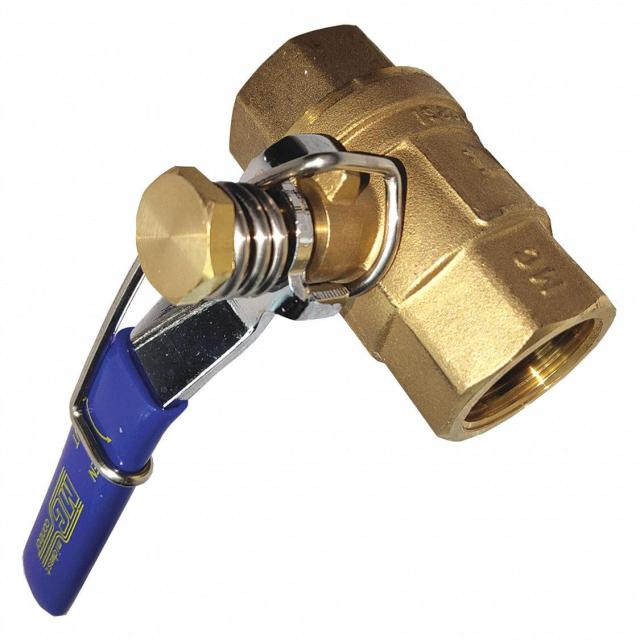closed_valve: (16, 21, 618, 615)
